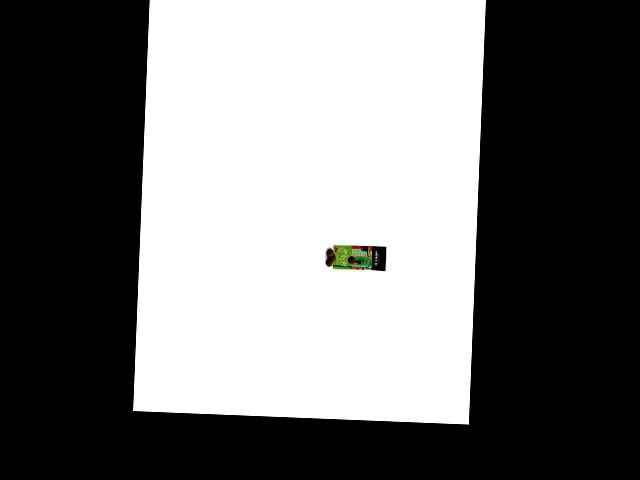chocolate: (331, 240, 388, 277)
